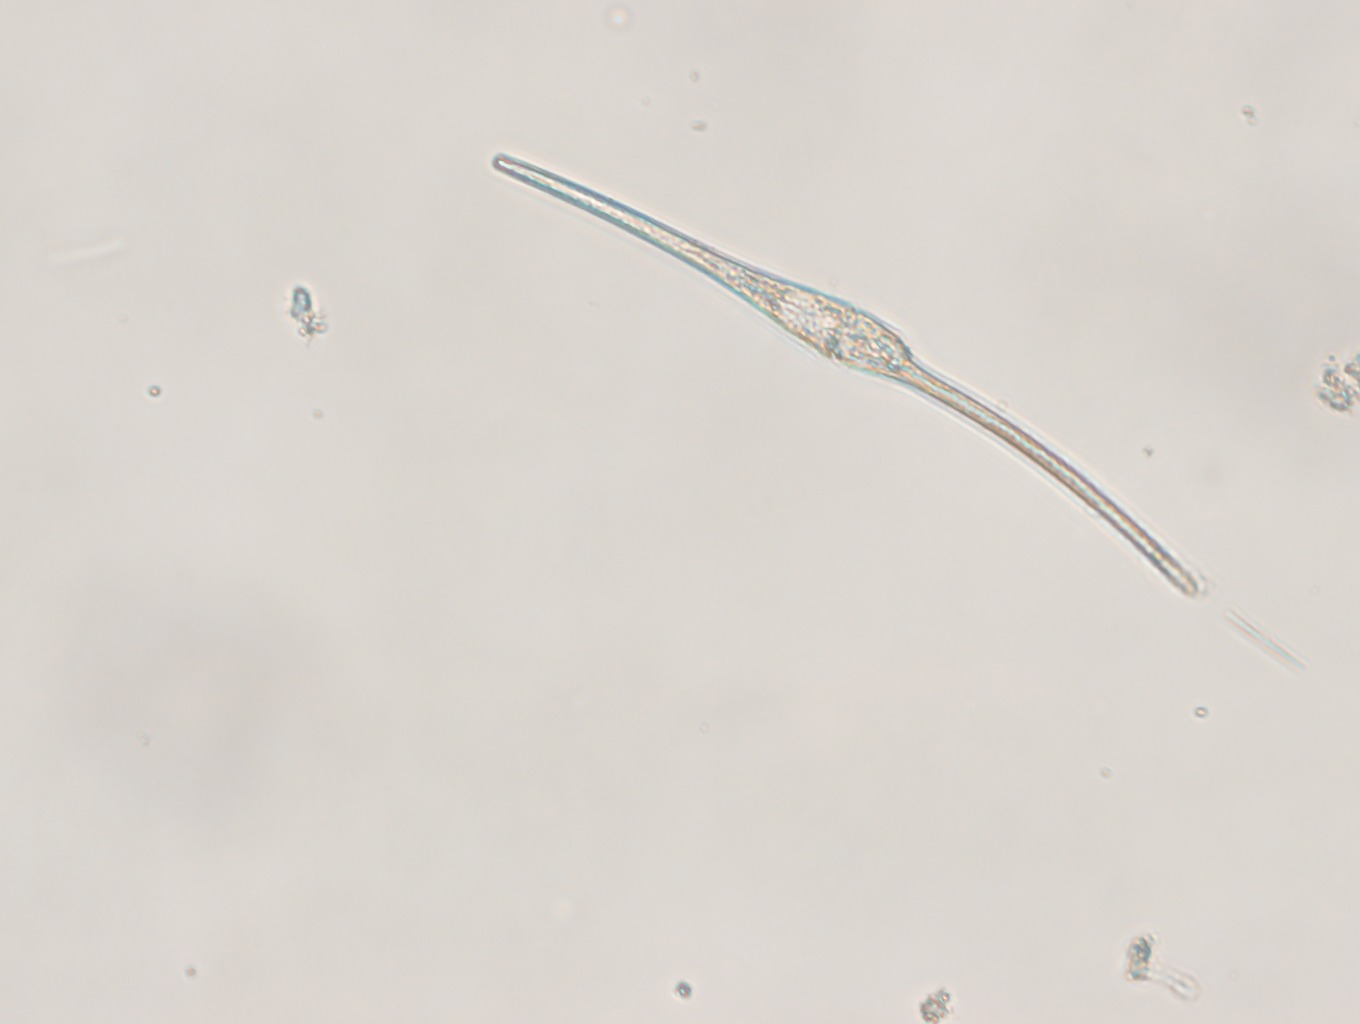ceratium fusus: (486, 136, 1207, 605)
